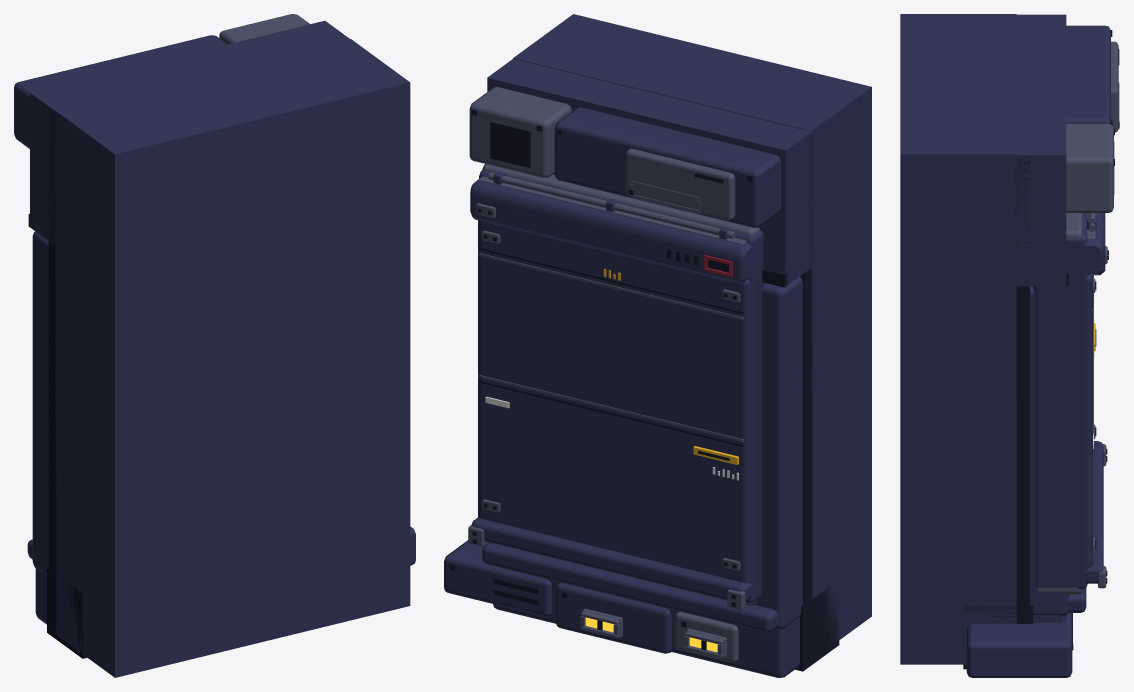
File: hull.bay.livery_plate.light.none.plate.w2.000.s1.k-2.15.glb
3 views of the same model, side by side, from view 1: azimuth 30°, elevation 25°; view 2: azimuth 150°, elevation 25°; view 3: azimuth 270°, elevation 25° (orthographic). The views are drawn at different scales.
Visible parts, largest first — view 1: hull.bay.livery_plate.light.none.plate.w2.000.s1.k-2.15; view 2: hull.bay.livery_plate.light.none.plate.w2.000.s1.k-2.15; view 3: hull.bay.livery_plate.light.none.plate.w2.000.s1.k-2.15.
Boxes of the visible parts, bbox=[...] form: hull.bay.livery_plate.light.none.plate.w2.000.s1.k-2.15: bbox=[14, 14, 415, 677]; hull.bay.livery_plate.light.none.plate.w2.000.s1.k-2.15: bbox=[444, 14, 871, 677]; hull.bay.livery_plate.light.none.plate.w2.000.s1.k-2.15: bbox=[900, 14, 1119, 677].
Bounding box in the file's own units: 2.29 × 3.42 × 1.32.
